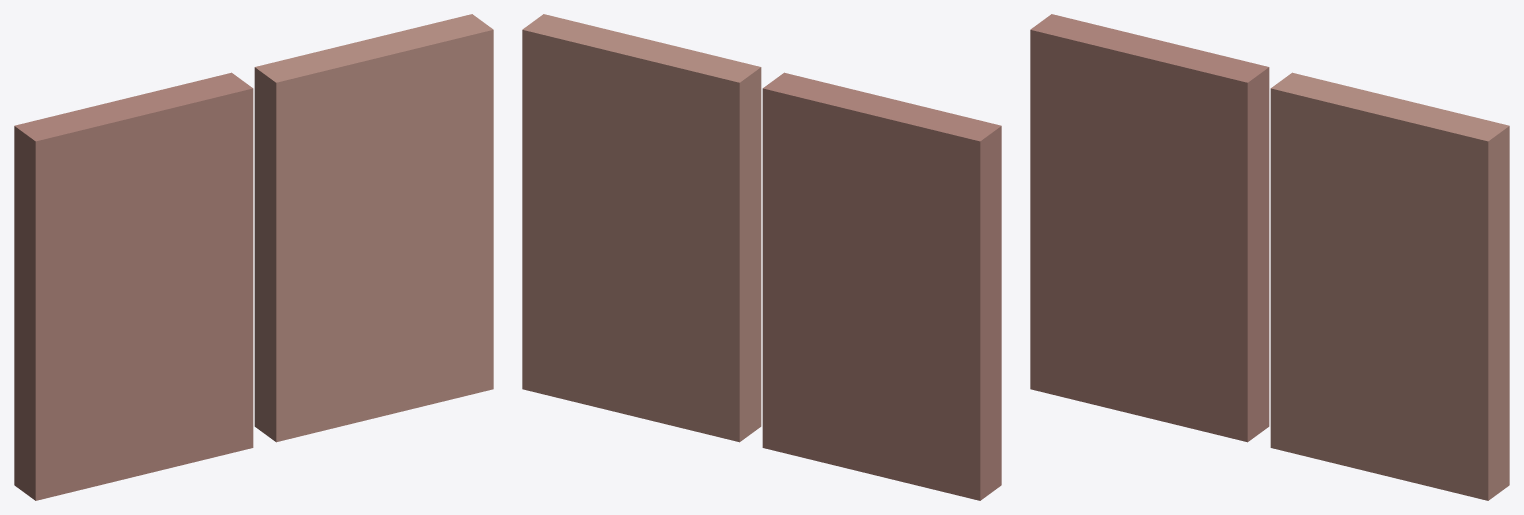
The model's file is dranmar_rescue_abdominal_wall_open.glb.
3 renders of one model, left to right at view 1: azimuth 30°, elevation 25°; view 2: azimuth 150°, elevation 25°; view 3: azimuth 330°, elevation 25°, orthographic.
Visible parts, largest first — view 1: LeftWall, RightWall; view 2: LeftWall, RightWall; view 3: LeftWall, RightWall.
Part boxes in pixels (x1=…): LeftWall: x1=14, y1=72, x2=253, y2=500; RightWall: x1=254, y1=14, x2=493, y2=442; LeftWall: x1=762, y1=72, x2=1001, y2=500; RightWall: x1=522, y1=14, x2=761, y2=442; LeftWall: x1=1030, y1=14, x2=1269, y2=442; RightWall: x1=1270, y1=72, x2=1509, y2=500.
Bounding box in the file's own units: 0.32 × 0.24 × 0.026.
